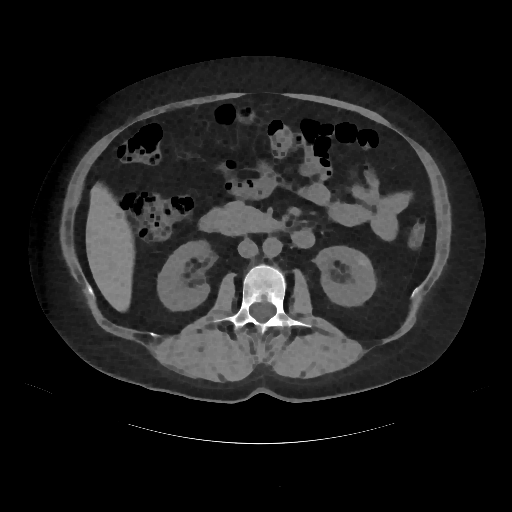Lesion: (354, 252, 372, 268)
